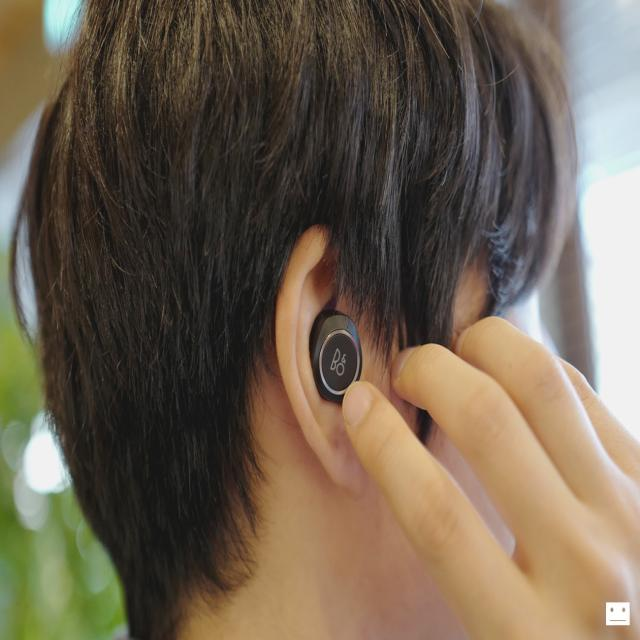earphone: (302, 305, 383, 408)
